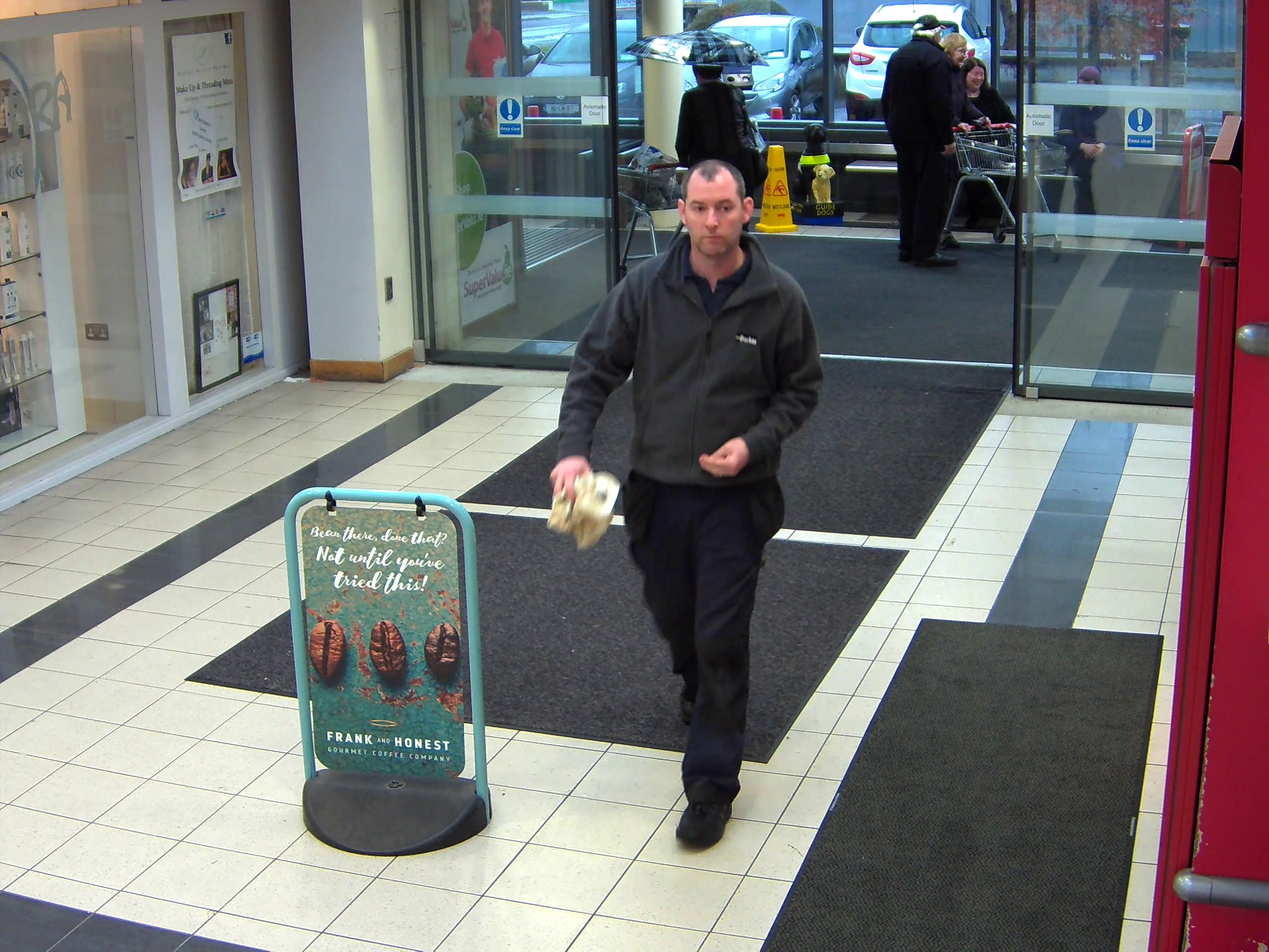empty-shopping-bags: (543, 467, 620, 550)
person: (558, 158, 823, 853)
person-with-empty-shopping-bag-s-: (540, 161, 823, 850)
